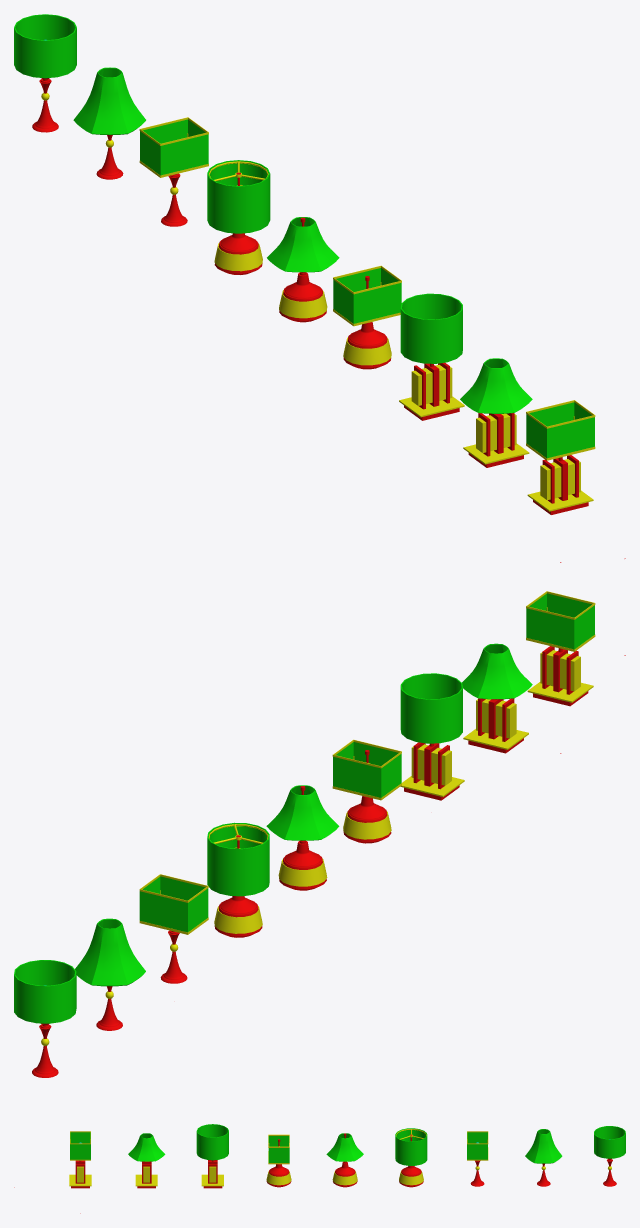
The model's file is desk_lamps_grp.fbx.
3 renders of one model, top to bottom at view 1: azimuth 30°, elevation 25°; view 2: azimuth 150°, elevation 25°; view 3: azimuth 270°, elevation 25°, orthographic. The views are drawn at different scales.
Parts seen in each view (by area): view 1: desk_lamp_3, desk_lamp_6, desk_lamp_1, desk_lamp_4, desk_lamp_2, desk_lamp_9, desk_lamp_5, desk_lamp_7, desk_lamp_8; view 2: desk_lamp_3, desk_lamp_6, desk_lamp_1, desk_lamp_4, desk_lamp_2, desk_lamp_9, desk_lamp_5, desk_lamp_7, desk_lamp_8; view 3: desk_lamp_6, desk_lamp_3, desk_lamp_5, desk_lamp_9, desk_lamp_2, desk_lamp_4, desk_lamp_1, desk_lamp_8, desk_lamp_7.
Boxes of the visible parts, left/top/right/bottom form: desk_lamp_3: left=399, top=293, right=464, bottom=420; desk_lamp_6: left=207, top=160, right=270, bottom=274; desk_lamp_1: left=526, top=400, right=595, bottom=562; desk_lamp_4: left=333, top=265, right=401, bottom=369; desk_lamp_2: left=460, top=358, right=532, bottom=467; desk_lamp_9: left=14, top=14, right=76, bottom=132; desk_lamp_5: left=267, top=217, right=339, bottom=322; desk_lamp_7: left=139, top=117, right=208, bottom=226; desk_lamp_8: left=73, top=67, right=145, bottom=179; desk_lamp_3: left=400, top=673, right=464, bottom=800; desk_lamp_6: left=207, top=822, right=269, bottom=937; desk_lamp_1: left=526, top=591, right=595, bottom=753; desk_lamp_4: left=332, top=739, right=401, bottom=843; desk_lamp_2: left=462, top=643, right=532, bottom=753; desk_lamp_9: left=14, top=960, right=76, bottom=1077; desk_lamp_5: left=266, top=785, right=339, bottom=890; desk_lamp_7: left=139, top=874, right=208, bottom=983; desk_lamp_8: left=75, top=918, right=145, bottom=1030; desk_lamp_6: left=395, top=1128, right=427, bottom=1187; desk_lamp_3: left=196, top=1124, right=228, bottom=1188; desk_lamp_5: left=326, top=1133, right=363, bottom=1187; desk_lamp_9: left=594, top=1126, right=625, bottom=1186; desk_lamp_2: left=128, top=1133, right=165, bottom=1188; desk_lamp_4: left=266, top=1134, right=291, bottom=1187; desk_lamp_1: left=69, top=1131, right=91, bottom=1213; desk_lamp_8: left=525, top=1129, right=562, bottom=1186; desk_lamp_7: left=467, top=1131, right=488, bottom=1186.
Size of the model in its own units: 51.35 by 138 by 925.
